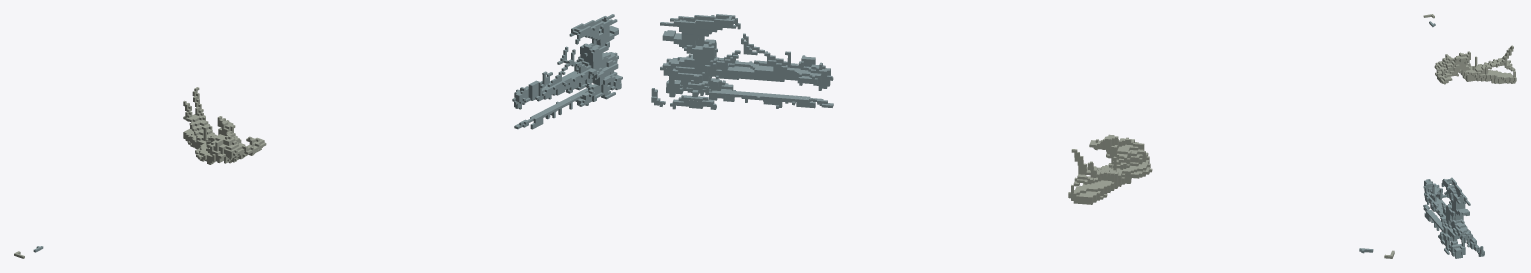
3 views of the same model, side by side, from view 1: azimuth 30°, elevation 25°; view 2: azimuth 150°, elevation 25°; view 3: azimuth 270°, elevation 25° (orthographic). The views are drawn at different scales.
Visible parts, largest first — view 1: measured-industrial; view 2: measured-industrial; view 3: measured-industrial.
Boxes of the visible parts, x1,y1,x2,y2 form: measured-industrial: [14, 14, 622, 258]; measured-industrial: [651, 14, 1394, 258]; measured-industrial: [1423, 14, 1516, 258].
Size of the model in its own units: 298 by 36.33 by 47.28.
